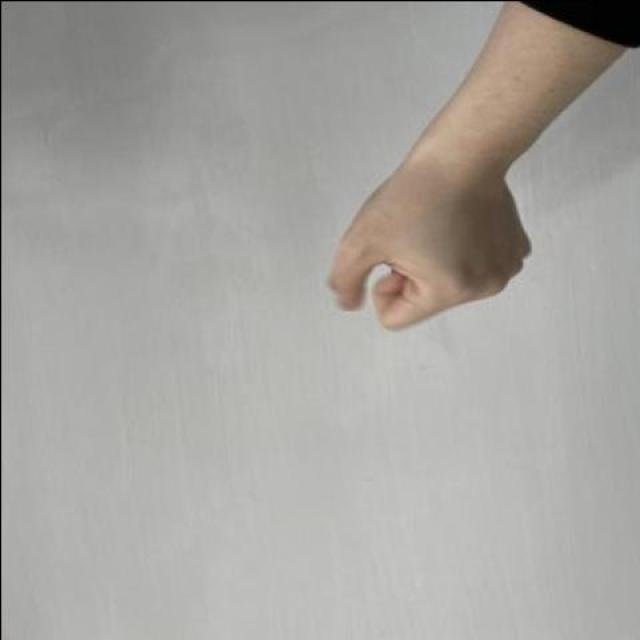Closed Hand: (324, 149, 536, 335)
